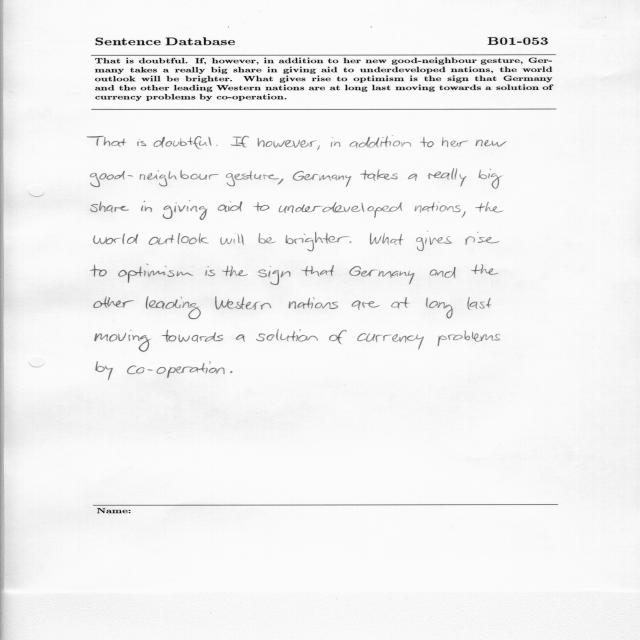word: (90, 170, 219, 187), (279, 202, 402, 218), (127, 361, 225, 378), (118, 264, 193, 283), (146, 297, 201, 320), (286, 232, 352, 251), (349, 266, 415, 285), (95, 330, 151, 352), (357, 333, 424, 350), (438, 330, 500, 346), (226, 171, 283, 187), (163, 200, 207, 220), (162, 330, 224, 343), (215, 296, 271, 310), (154, 136, 212, 149), (258, 138, 320, 150), (350, 136, 412, 148), (256, 330, 318, 342), (428, 168, 466, 187), (149, 233, 209, 245), (258, 266, 291, 285), (304, 174, 351, 187), (289, 297, 338, 309), (426, 298, 453, 319), (416, 236, 452, 251), (415, 202, 461, 213), (94, 234, 138, 245), (94, 296, 134, 308), (479, 169, 502, 189), (360, 169, 398, 181), (466, 232, 500, 245), (91, 201, 129, 212), (88, 136, 126, 146), (301, 265, 334, 276), (475, 202, 503, 213), (96, 362, 113, 380), (468, 297, 491, 310), (471, 264, 498, 275), (220, 233, 244, 245), (430, 267, 456, 278), (352, 300, 380, 310), (218, 201, 243, 212), (442, 137, 469, 147), (222, 266, 248, 276), (383, 233, 404, 245), (329, 330, 347, 344), (476, 140, 507, 147), (391, 297, 410, 308), (90, 265, 107, 277), (231, 136, 249, 147), (258, 233, 276, 244), (253, 202, 270, 211), (420, 137, 434, 147), (141, 201, 152, 212), (370, 233, 381, 244), (293, 171, 304, 181), (206, 266, 216, 276), (137, 139, 146, 146), (408, 174, 417, 181), (236, 335, 245, 342), (334, 141, 340, 147), (462, 211, 466, 218), (331, 138, 333, 148), (230, 371, 233, 373), (216, 145, 218, 146)
